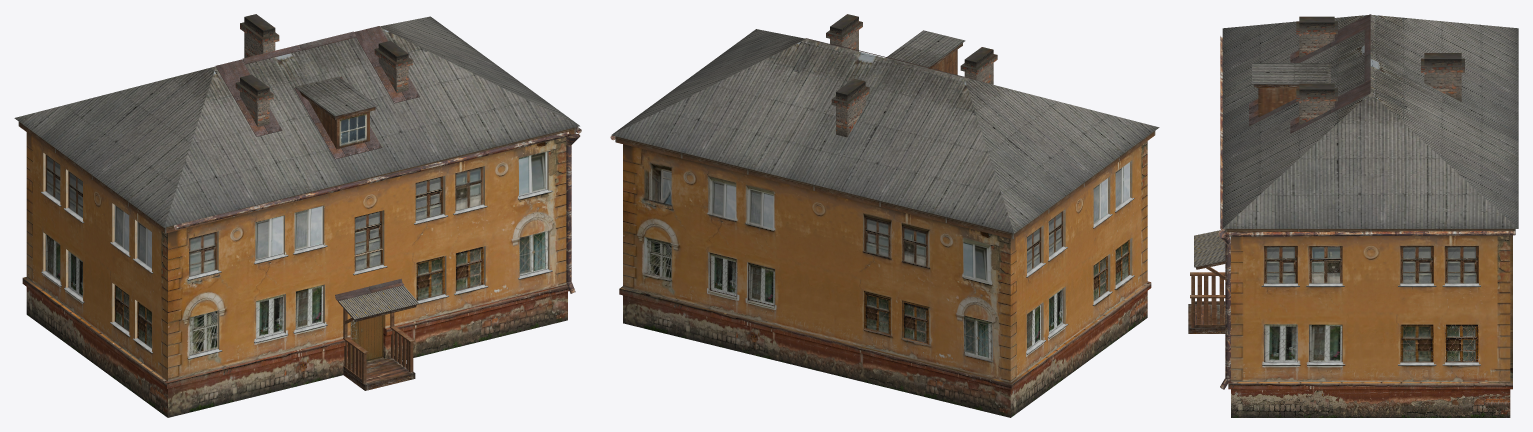
The model's file is minihouse_2.fbx.
3 views of the same model, side by side, from view 1: azimuth 30°, elevation 25°; view 2: azimuth 150°, elevation 25°; view 3: azimuth 270°, elevation 25° (orthographic). The views are drawn at different scales.
Parts seen in each view (by area): view 1: 804caaa7-54de-4d86-bf54-f1557d951ce6; view 2: 804caaa7-54de-4d86-bf54-f1557d951ce6; view 3: 804caaa7-54de-4d86-bf54-f1557d951ce6.
Part boxes in pixels (<box>): 804caaa7-54de-4d86-bf54-f1557d951ce6: <box>14,14,581,417</box>; 804caaa7-54de-4d86-bf54-f1557d951ce6: <box>610,14,1159,417</box>; 804caaa7-54de-4d86-bf54-f1557d951ce6: <box>1188,14,1518,417</box>.
Size of the model in its own units: 13.52 by 8.39 by 9.35.
1 material, 1 textured.
